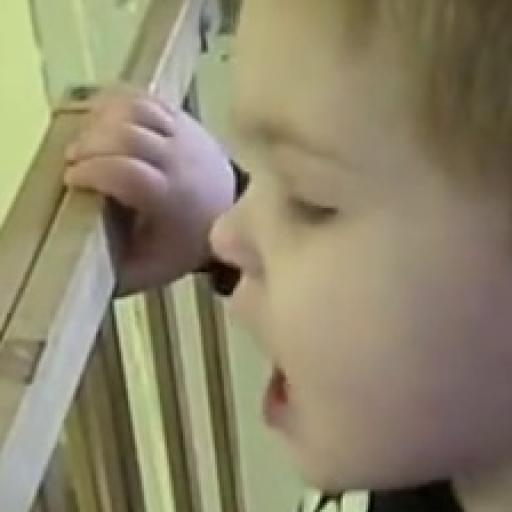Autism: (193, 19, 512, 500)
